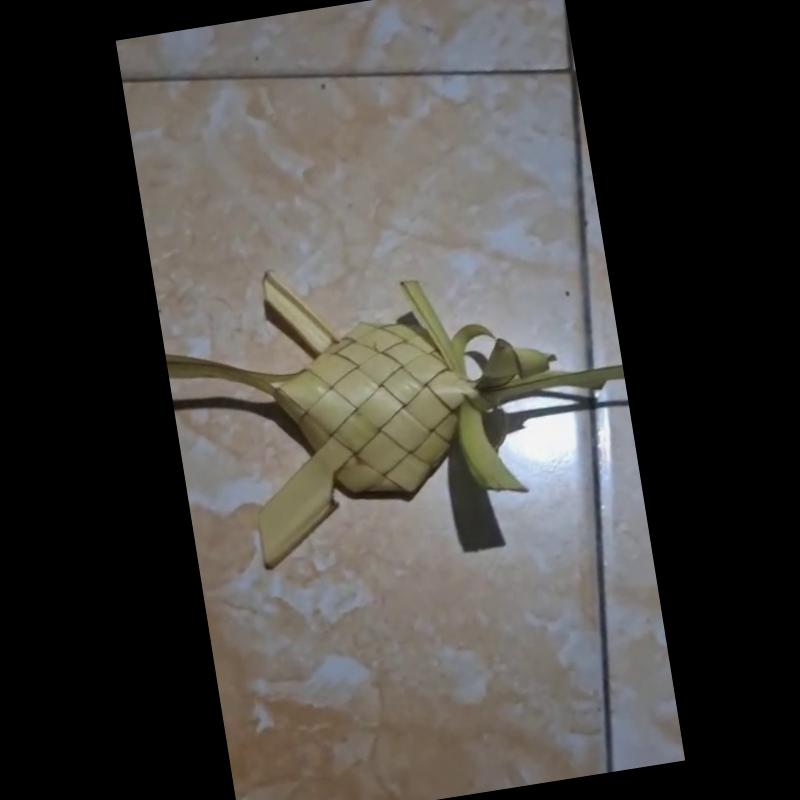Tipat Dampulan: (167, 269, 626, 568)
